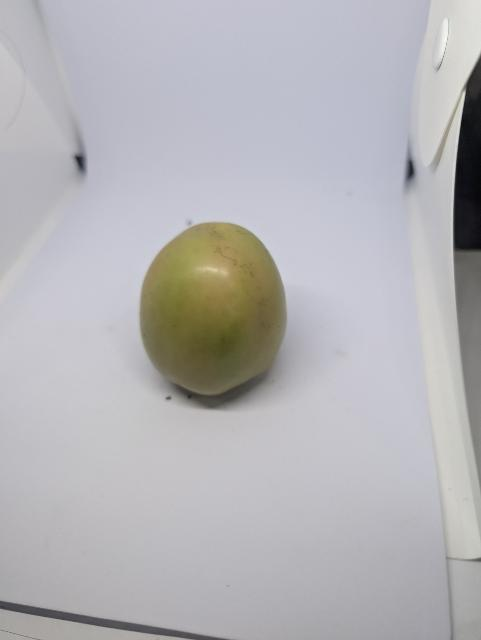breaker: (140, 222, 287, 395)
